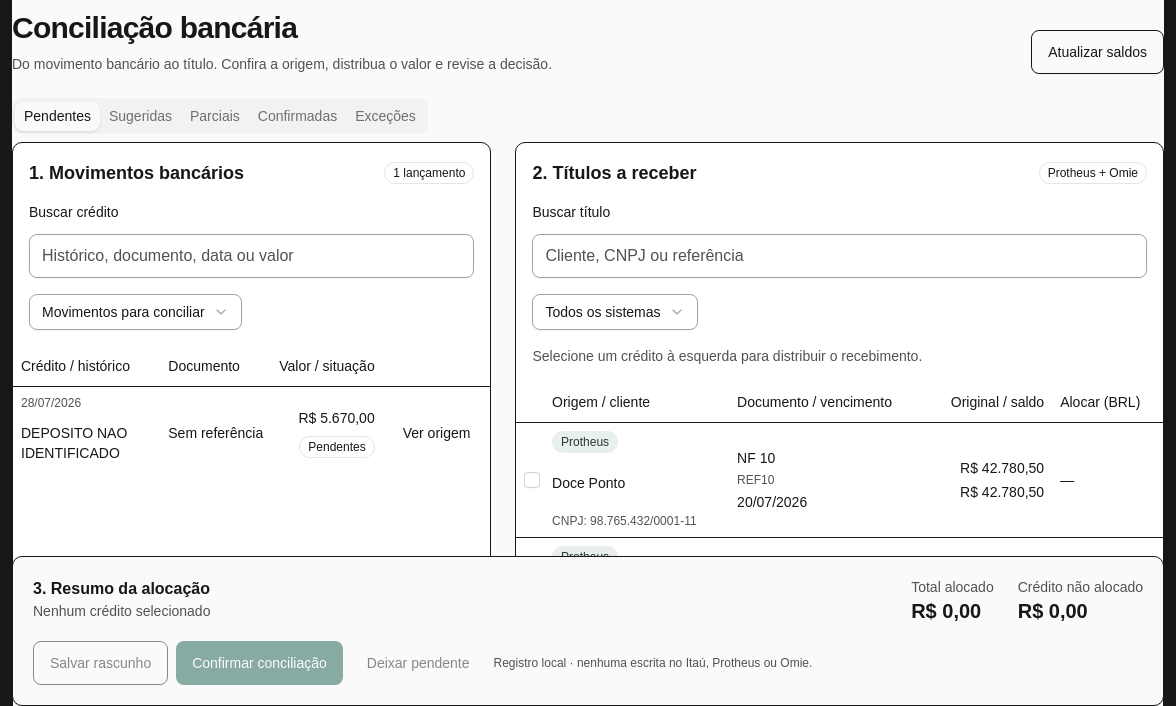
it: allows only titles in the selected statement units
The width and height of the screenshot is (1176, 706).
Press the mouse on the tab "Sugeridas" at [140, 116], box [100,102,181,130]
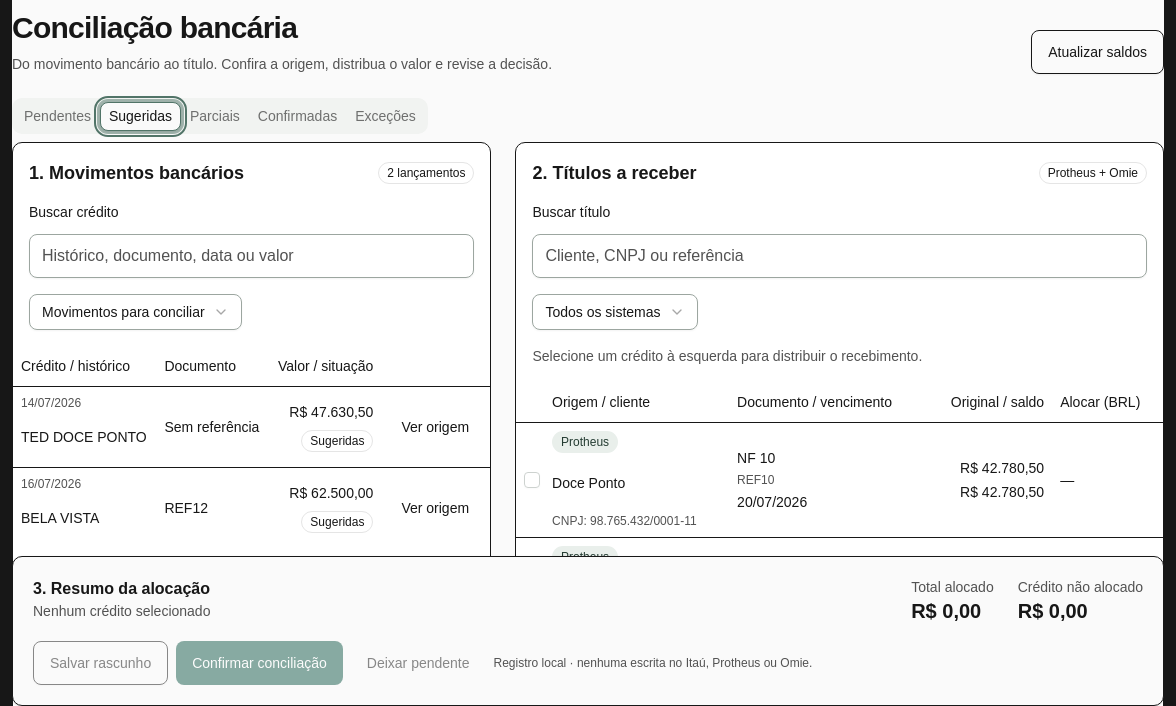
Click the button "TED DOCE PONTO" at [84, 437], box [21,415,147,459]
(page scrolled)
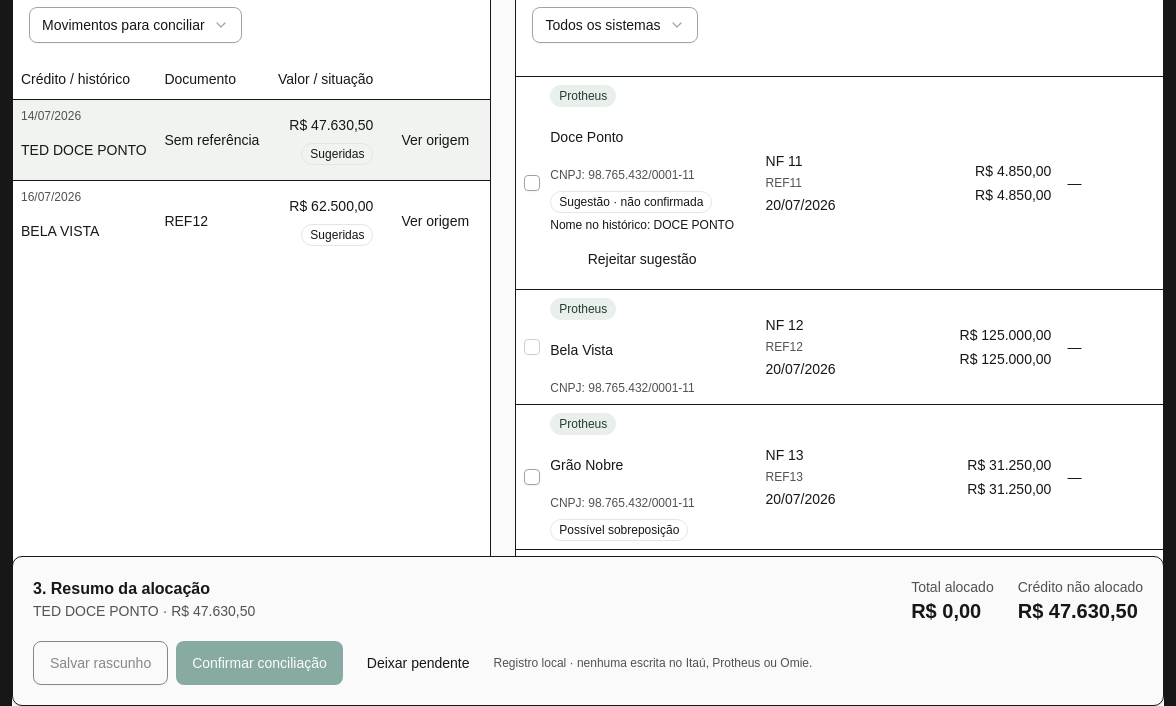
Expected: the checkbox named "Selecionar protheus NF 12" is disabled, [524,339,540,355]
Result: the checkbox named "Selecionar protheus NF 11" is enabled at [524,175,540,191]
